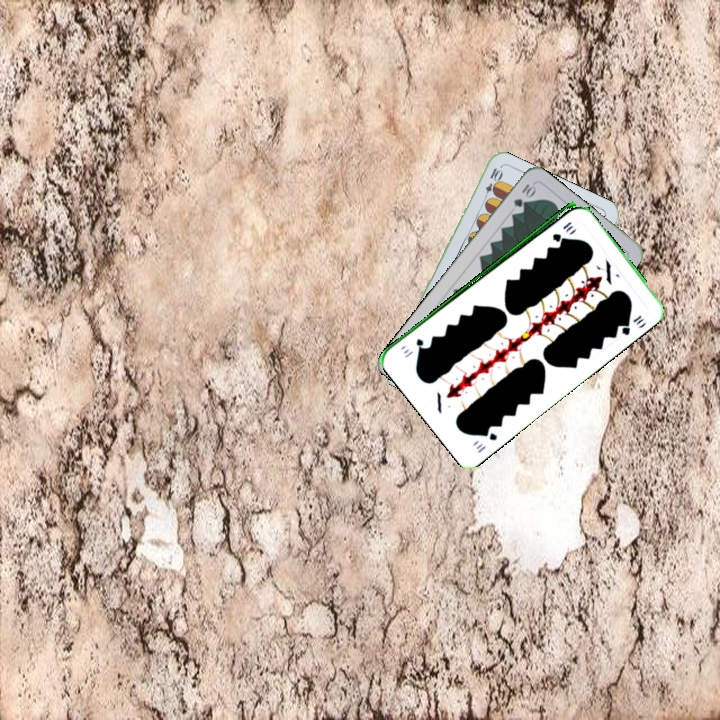E10: (480, 164, 504, 203)
G10: (509, 179, 539, 210), (472, 426, 500, 455), (548, 218, 574, 243)
